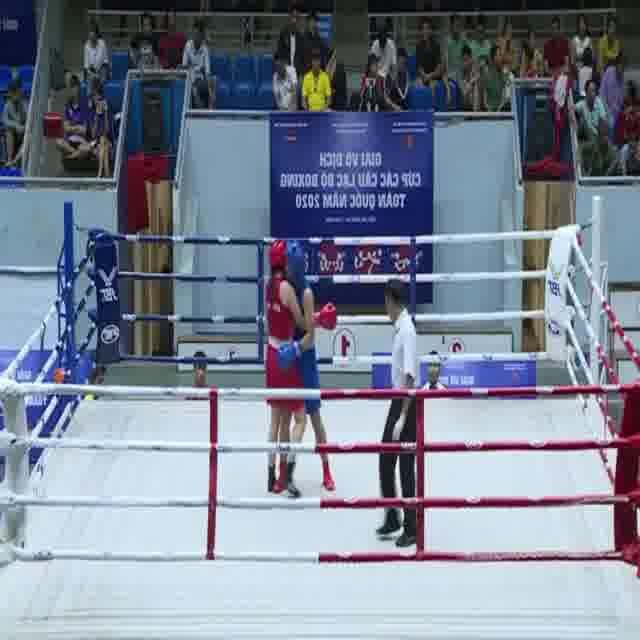blue-player: (271, 239, 338, 495)
red-player: (265, 239, 340, 501)
referee: (370, 276, 426, 550)
